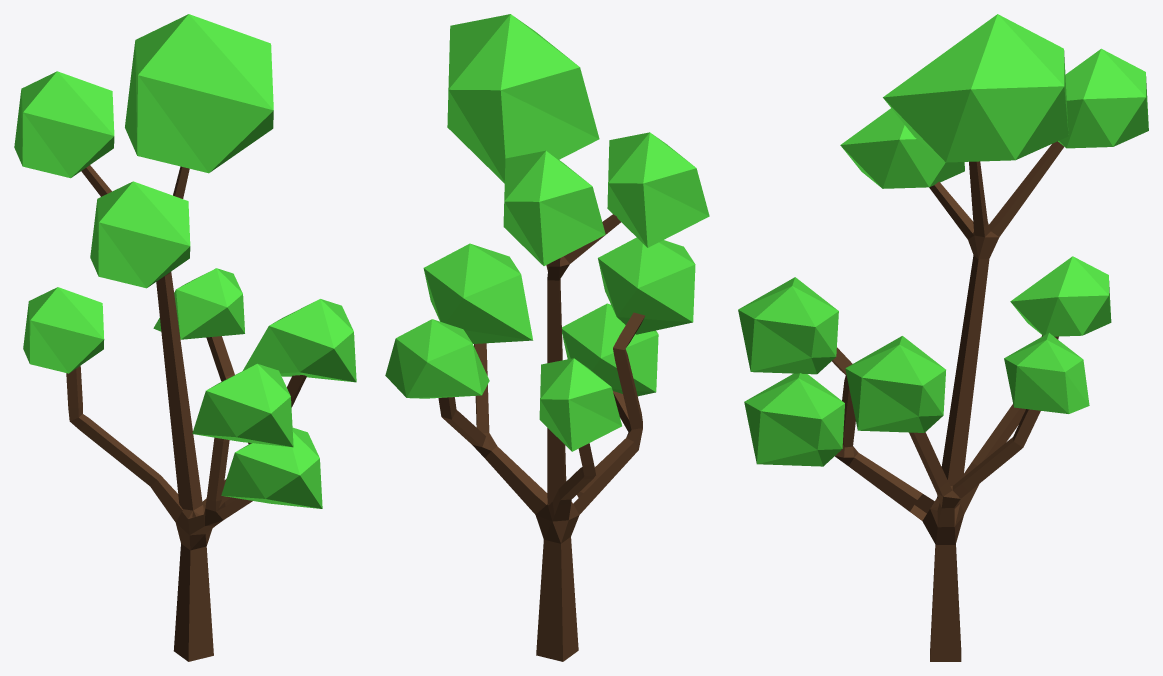
The model's file is BigTree.fbx.
The picture shows the model from 3 angles, left to right: view 1: azimuth 30°, elevation 25°; view 2: azimuth 150°, elevation 25°; view 3: azimuth 270°, elevation 25°; orthographic projection. The views are drawn at different scales.
Parts seen in each view (by area): view 1: Cube; view 2: Cube; view 3: Cube.
Boxes of the visible parts, x1,y1,x2,y2 form: Cube: (14,14,356,661); Cube: (385,14,709,661); Cube: (738,14,1148,661).
Size of the model in its own units: 9036 by 20733 by 11854.
